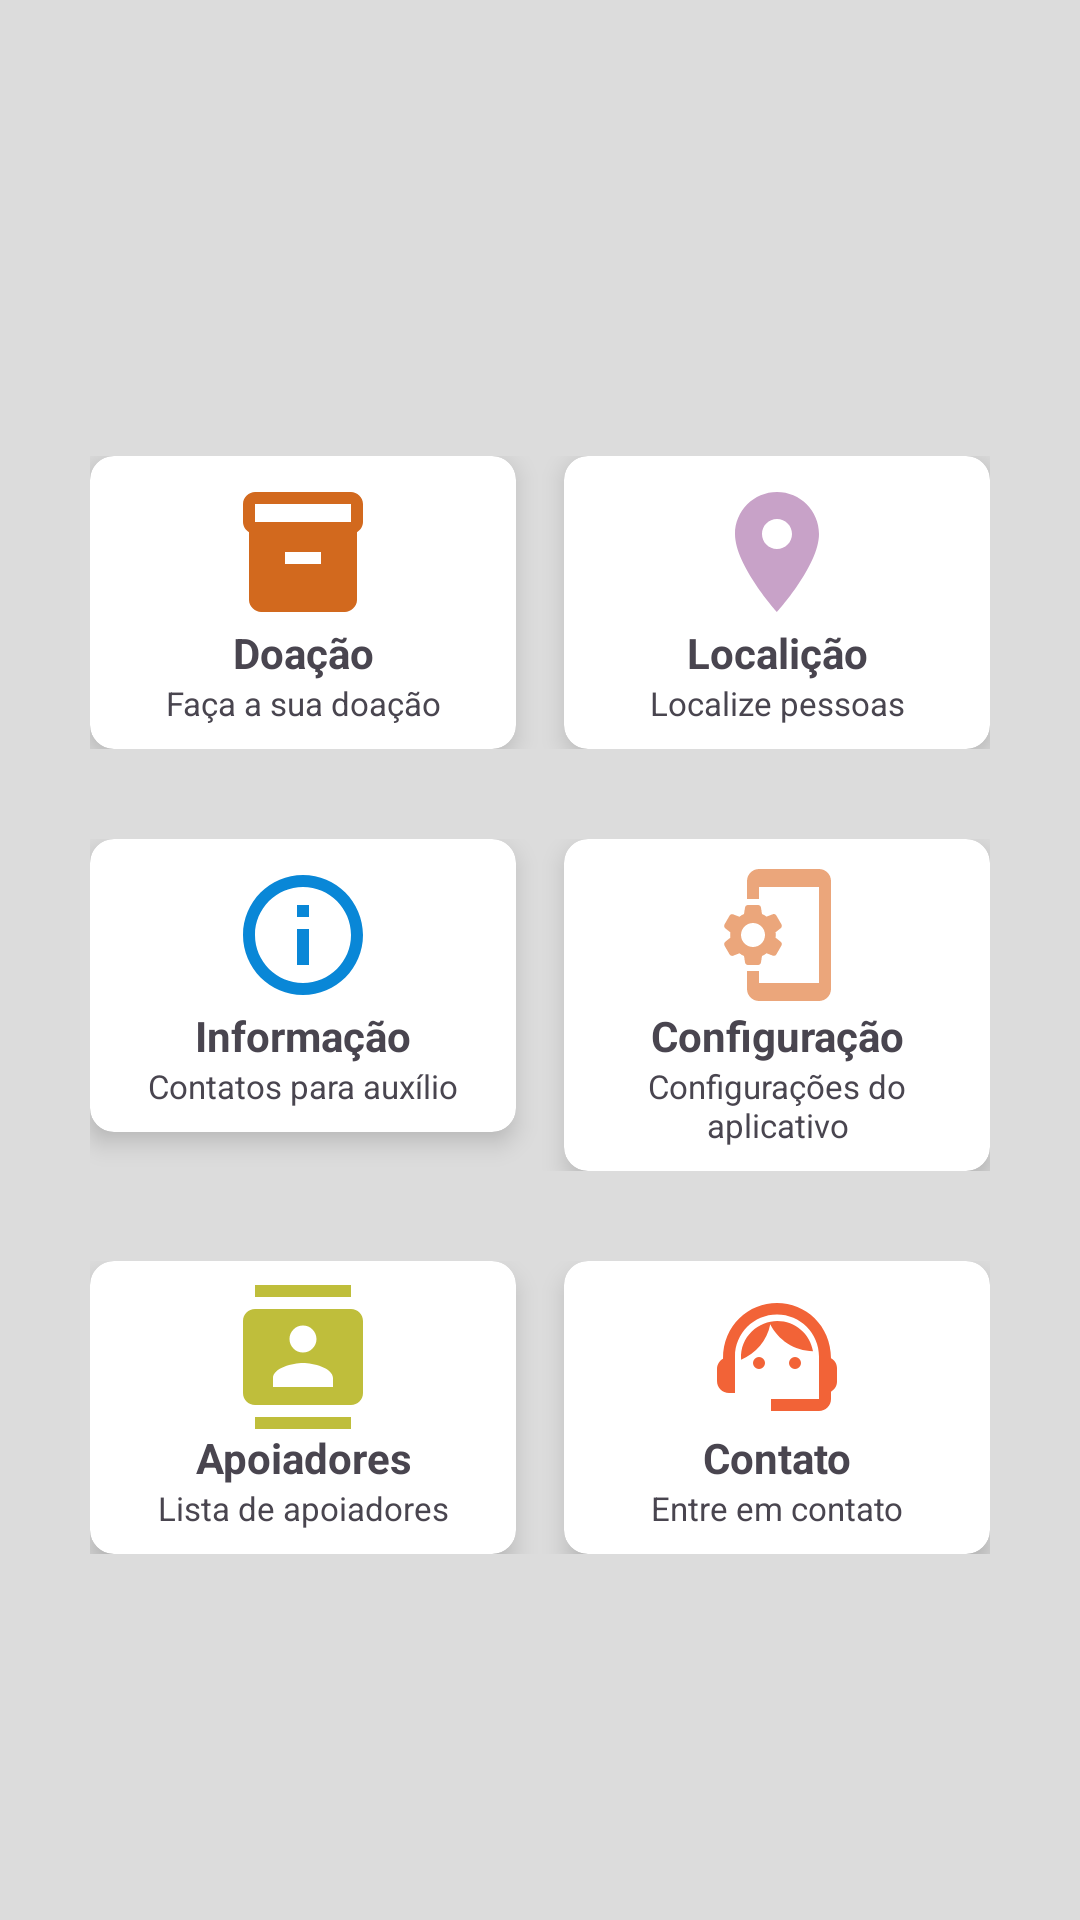

Icon bounding boxes for this 1080 × 1920 phone screenshot, format (x1, y1, x2, y2):
produto: (243, 492, 363, 612)
support: (717, 1303, 837, 1411)
